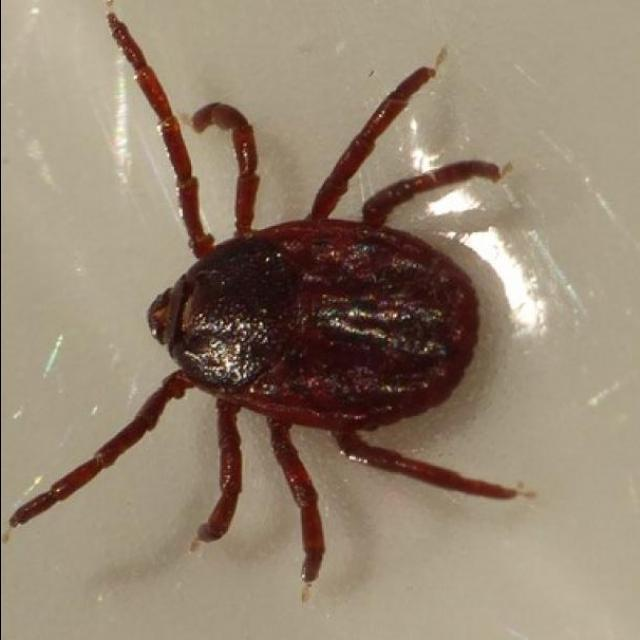Rhipicephalus Sanguineus-F: (10, 15, 521, 589)
